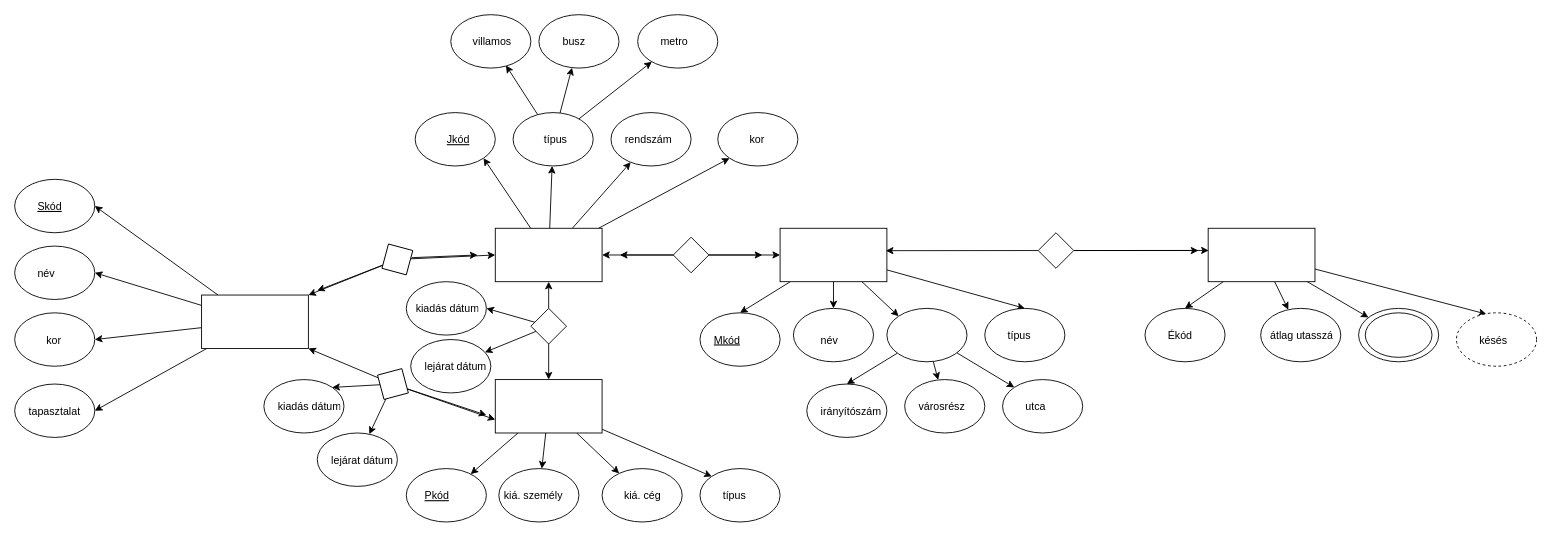
This 1560x537 diagram has some shape labels left out. The shapes that lost their labels are listed below. From the top down, each one's box as (x1, y1, x2, y2) in pixels, then its label:
(494, 227, 602, 282): Jármű
(779, 227, 887, 282): Megálló
(1207, 227, 1315, 282): Érkezés
(201, 294, 308, 348): Sofőr
(886, 307, 967, 362): hely
(1364, 312, 1432, 357): időpont
(494, 379, 602, 433): Papírok
